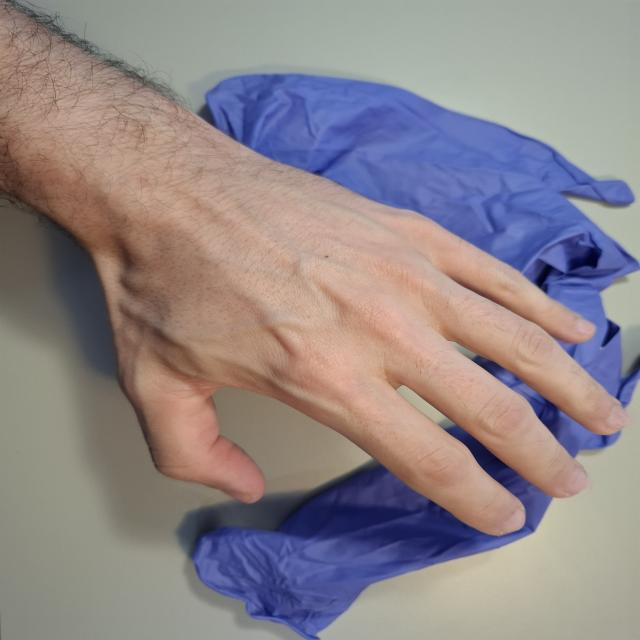glove_off: (72, 140, 635, 538)
